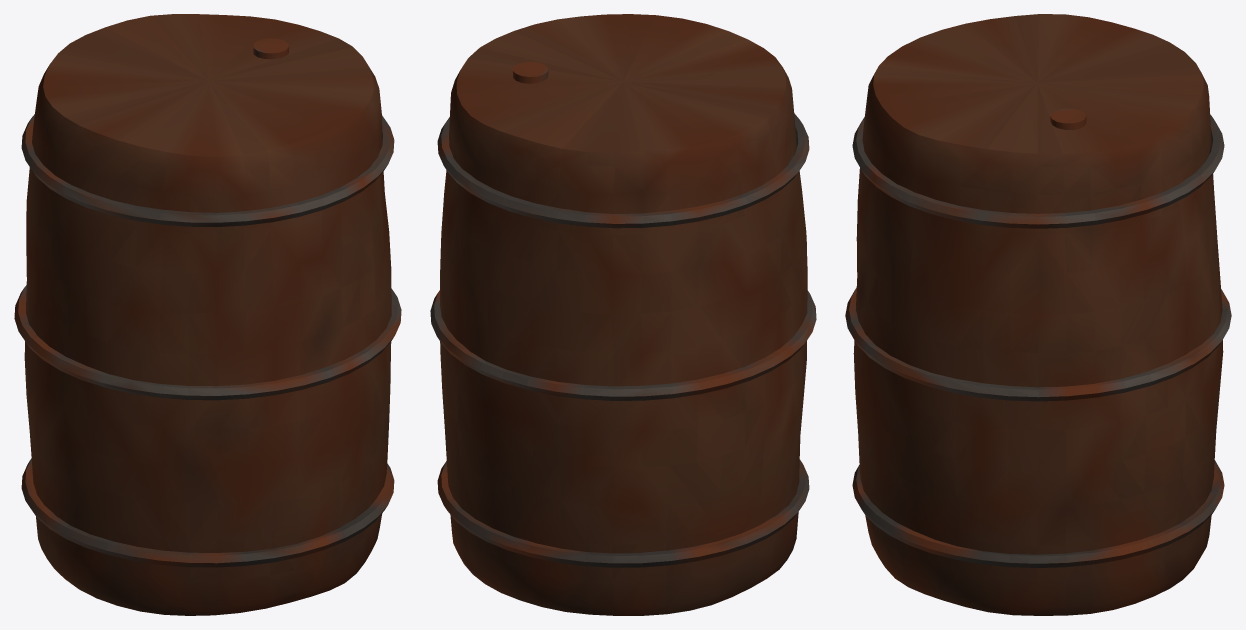
The model's file is Barrel.glb.
The picture shows the model from 3 angles, left to right: view 1: azimuth 30°, elevation 25°; view 2: azimuth 150°, elevation 25°; view 3: azimuth 270°, elevation 25°; orthographic projection.
Parts seen in each view (by area): view 1: Barrel_rust, Barrel_iron; view 2: Barrel_rust, Barrel_iron; view 3: Barrel_rust, Barrel_iron.
Boxes of the visible parts, x1,y1,x2,y2 form: Barrel_rust: (24,14,391,615); Barrel_iron: (14,38,401,567); Barrel_rust: (440,14,807,615); Barrel_iron: (430,62,816,567); Barrel_rust: (853,14,1223,615); Barrel_iron: (845,108,1231,567).
Size of the model in its own units: 2.58 by 3.46 by 2.58.
